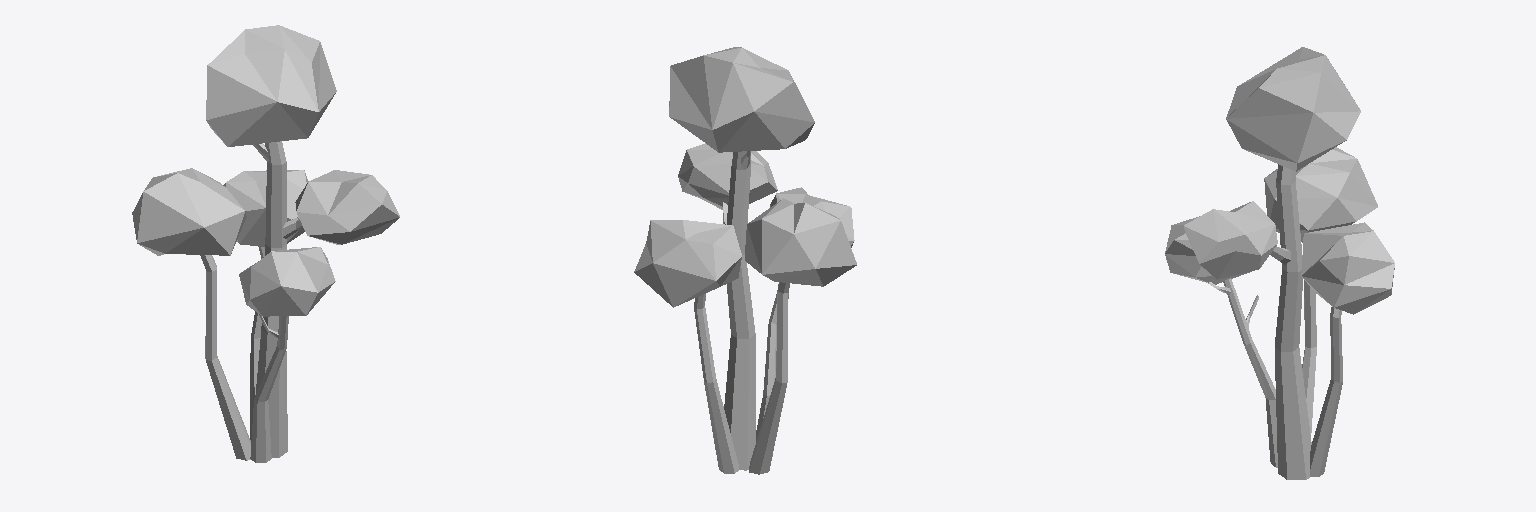
Rendered from bush3.obj.
3 views of the same model, side by side, from view 1: azimuth 30°, elevation 25°; view 2: azimuth 150°, elevation 25°; view 3: azimuth 270°, elevation 25° (orthographic).
Bounding box in the file's own units: 2.6 × 4.93 × 2.49.